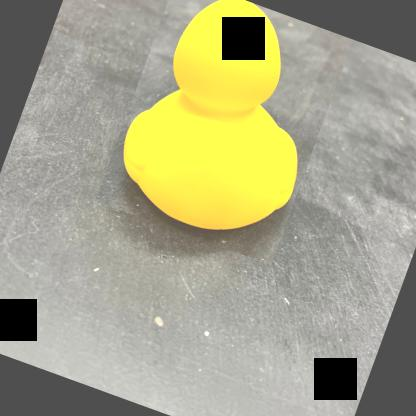duck: (94, 0, 352, 264)
